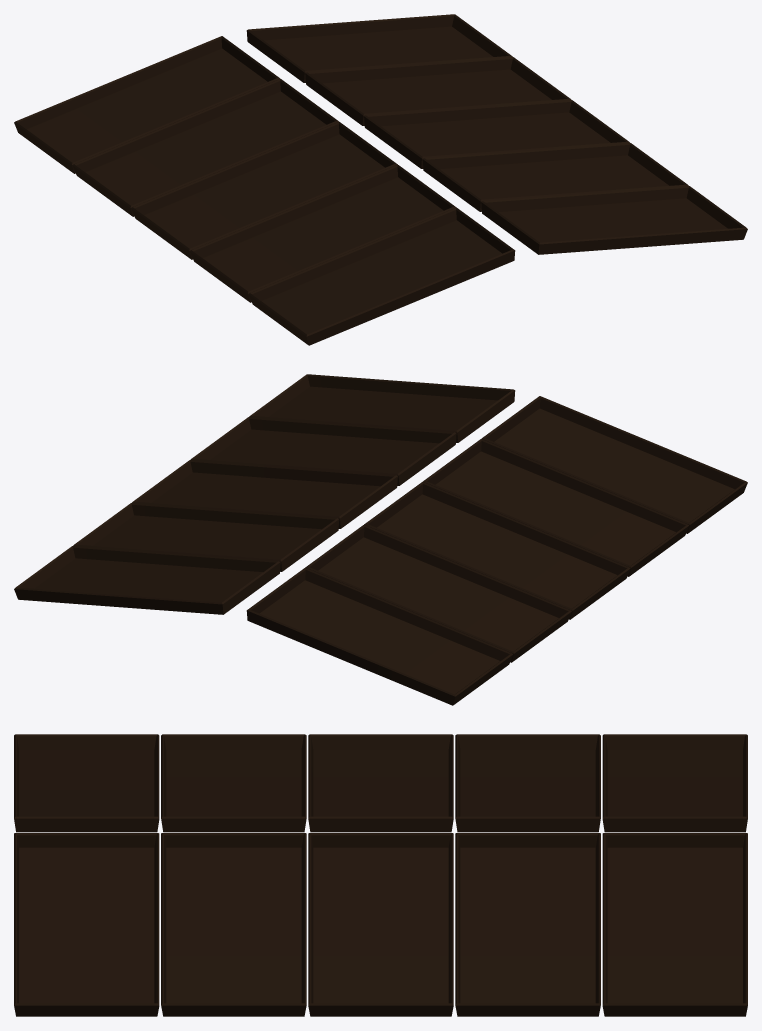
File: Basket_Produce_Wide.glb
The picture shows the model from 3 angles, top to bottom: view 1: azimuth 30°, elevation 25°; view 2: azimuth 150°, elevation 25°; view 3: azimuth 270°, elevation 25°; orthographic projection. The views are drawn at different scales.
Parts seen in each view (by area): view 1: Basket_Produce_Wide; view 2: Basket_Produce_Wide; view 3: Basket_Produce_Wide.
Boxes of the visible parts, bbox=[...] form: Basket_Produce_Wide: bbox=[14, 14, 747, 345]; Basket_Produce_Wide: bbox=[14, 374, 747, 705]; Basket_Produce_Wide: bbox=[14, 734, 747, 1016].
Size of the model in its own units: 3.82 by 0.3886 by 4.38.
Materials: 1 (1 with a texture image).
